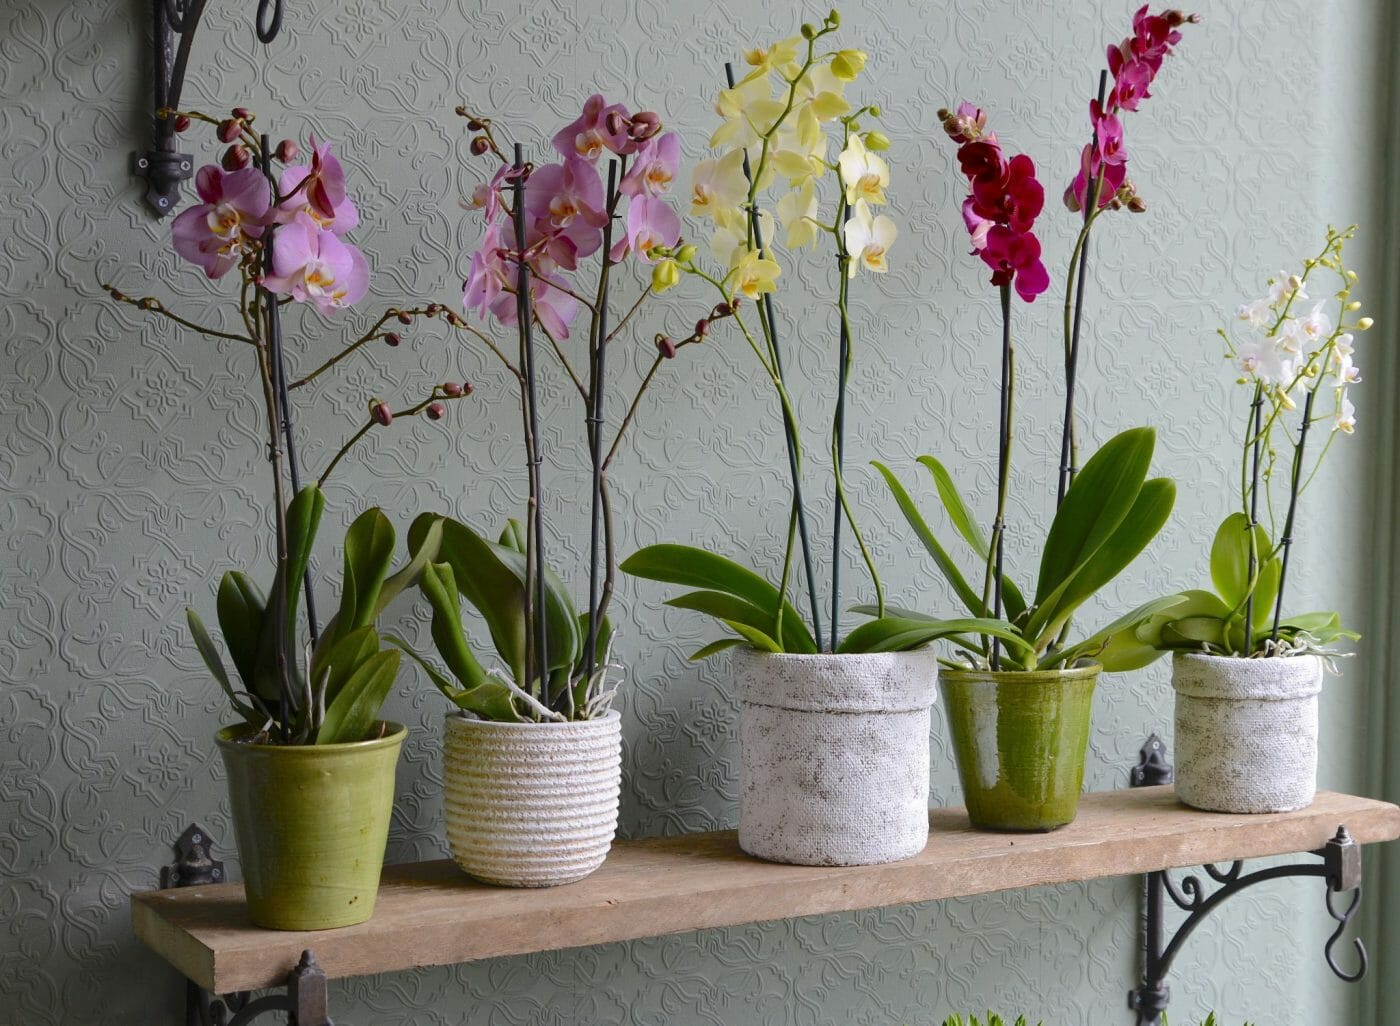plant: (87, 95, 483, 965), (617, 1, 977, 901), (399, 60, 718, 962), (905, 1, 1210, 869), (1112, 191, 1400, 869)
